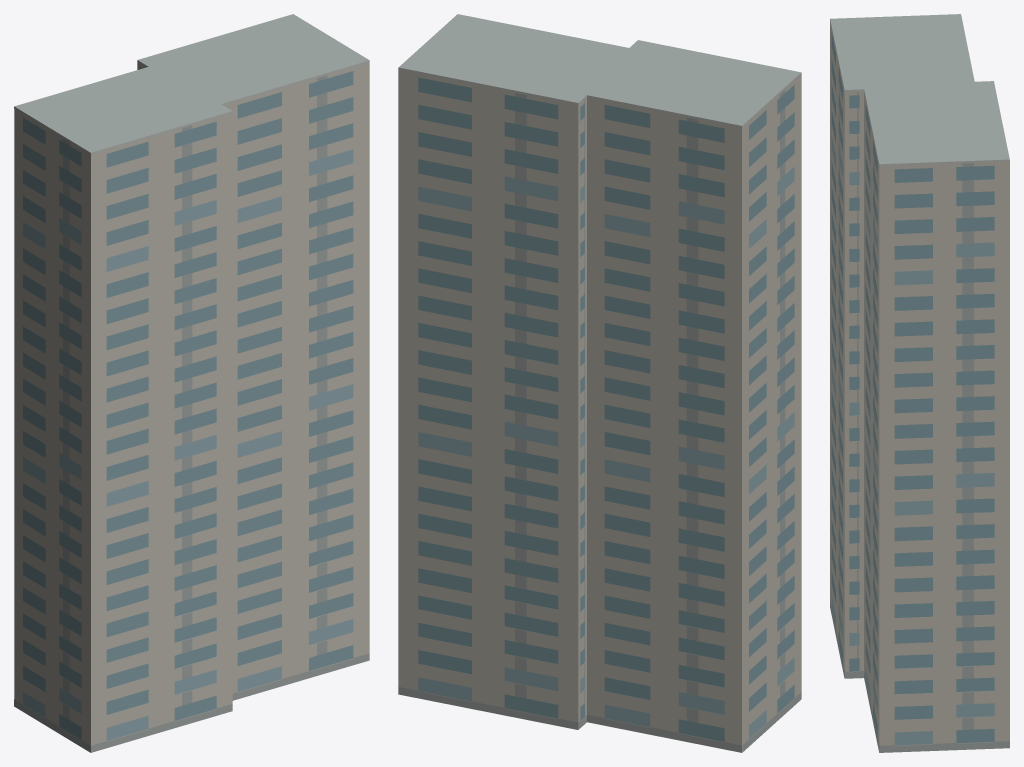
The model's file is residential-55ee71a0-d69d-4034-a98d-7332d90363dc.glb.
3 views of the same model, side by side, from view 1: azimuth 30°, elevation 25°; view 2: azimuth 150°, elevation 25°; view 3: azimuth 270°, elevation 25° (orthographic). The views are drawn at different scales.
Visible parts, largest first — view 1: residential-55ee71a0-d69d-4034-a98d-7332d90363dc.tmp; view 2: residential-55ee71a0-d69d-4034-a98d-7332d90363dc.tmp; view 3: residential-55ee71a0-d69d-4034-a98d-7332d90363dc.tmp.
Part boxes in pixels (left/top/right/bottom): residential-55ee71a0-d69d-4034-a98d-7332d90363dc.tmp: left=14, top=14, right=369, bottom=752; residential-55ee71a0-d69d-4034-a98d-7332d90363dc.tmp: left=398, top=14, right=801, bottom=752; residential-55ee71a0-d69d-4034-a98d-7332d90363dc.tmp: left=830, top=14, right=1009, bottom=752.
Size of the model in its own units: 35.04 by 64 by 17.72.
